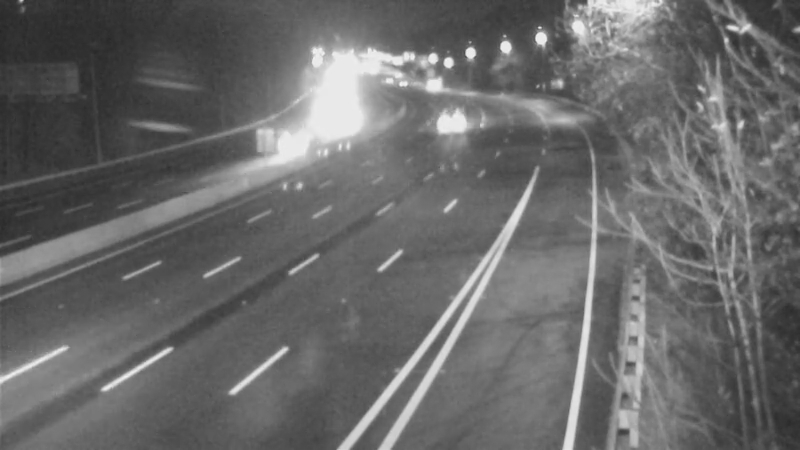vehicle: (422, 95, 472, 145), (263, 116, 313, 166)
